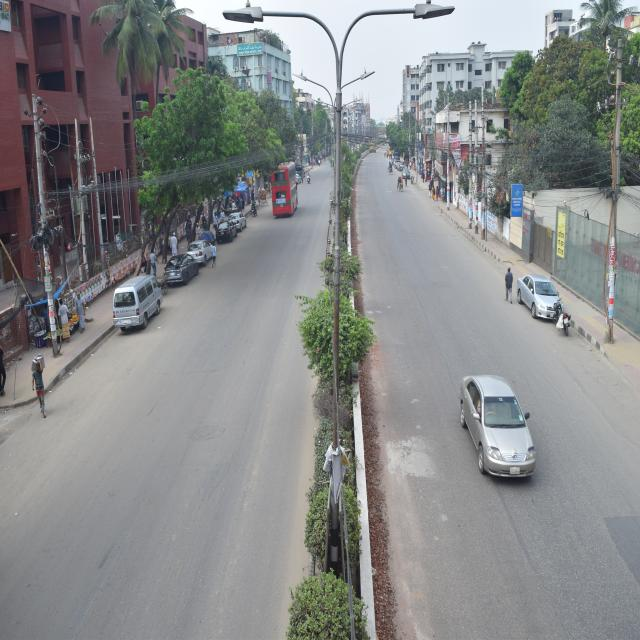bus: (269, 160, 305, 222)
car: (452, 367, 542, 491), (516, 267, 566, 322), (160, 244, 202, 291), (224, 201, 251, 236), (186, 237, 217, 264), (211, 220, 239, 249)
microbus: (110, 266, 165, 340)
motorbike: (544, 300, 579, 341), (245, 200, 258, 218)
